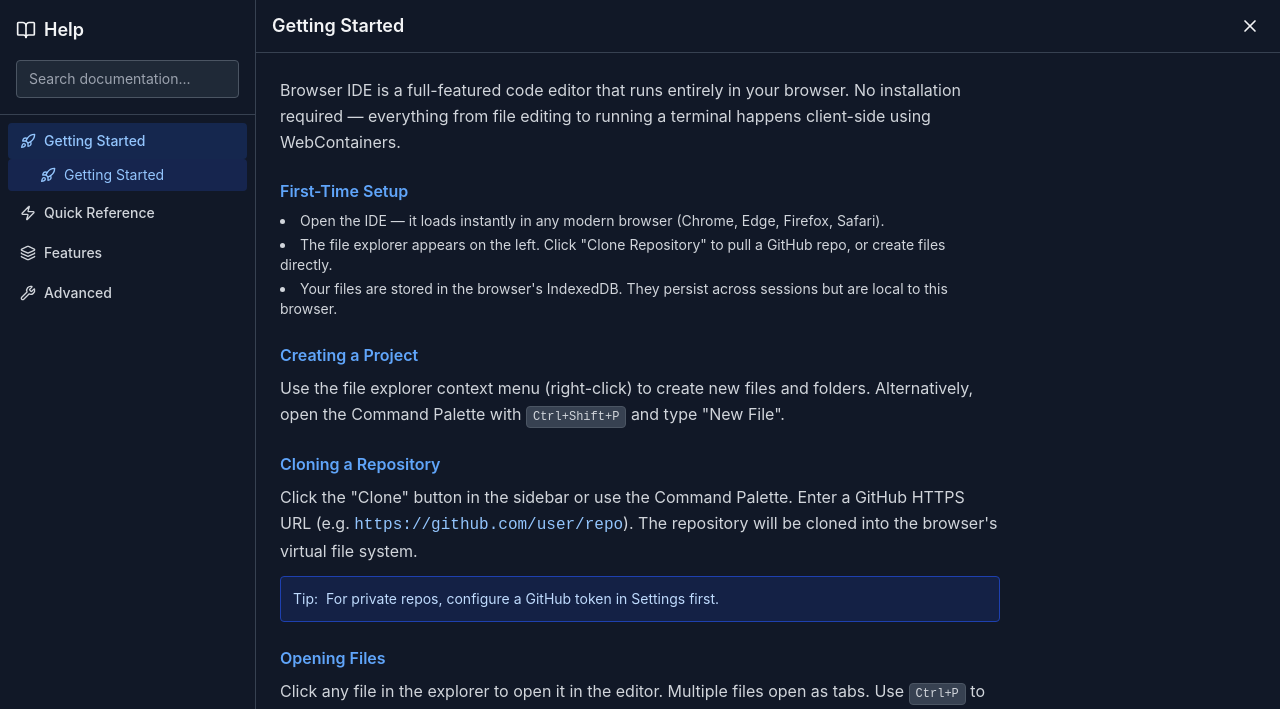
Test case: HelpPanel - Navigation › switches to Keyboard Shortcuts section
Click the button "Quick Reference": (128, 213) [8,195,247,231]
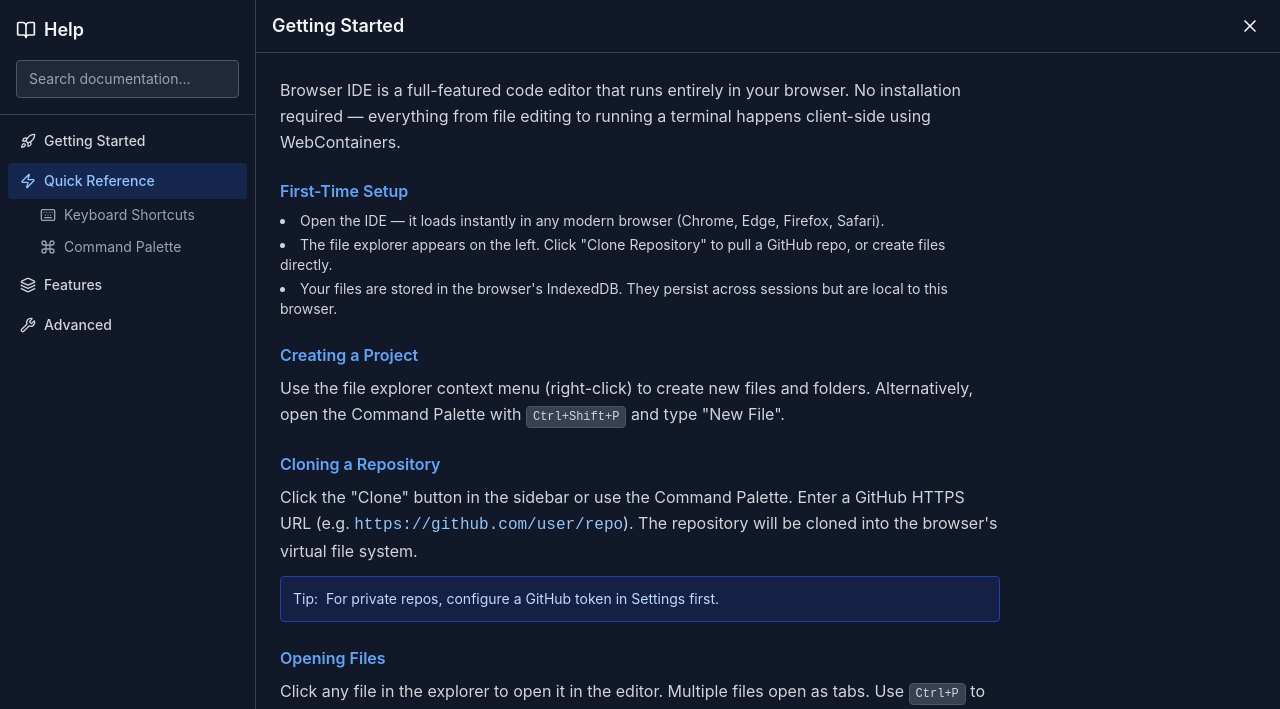
Click the button "Keyboard Shortcuts": (128, 215) [8,199,247,231]
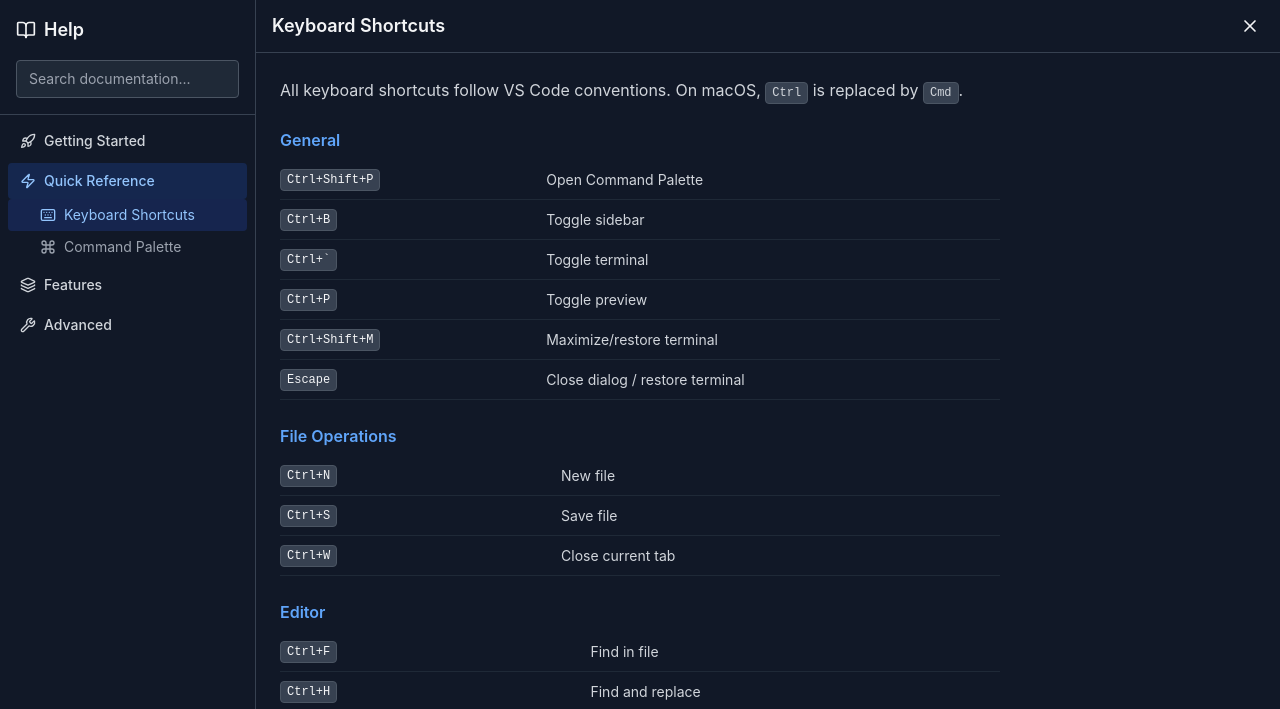
Check: the heading "Keyboard Shortcuts" is shown, box [272,12,445,40]
Check: the text "Toggle sidebar" is shown, box [546,200,1000,240]
